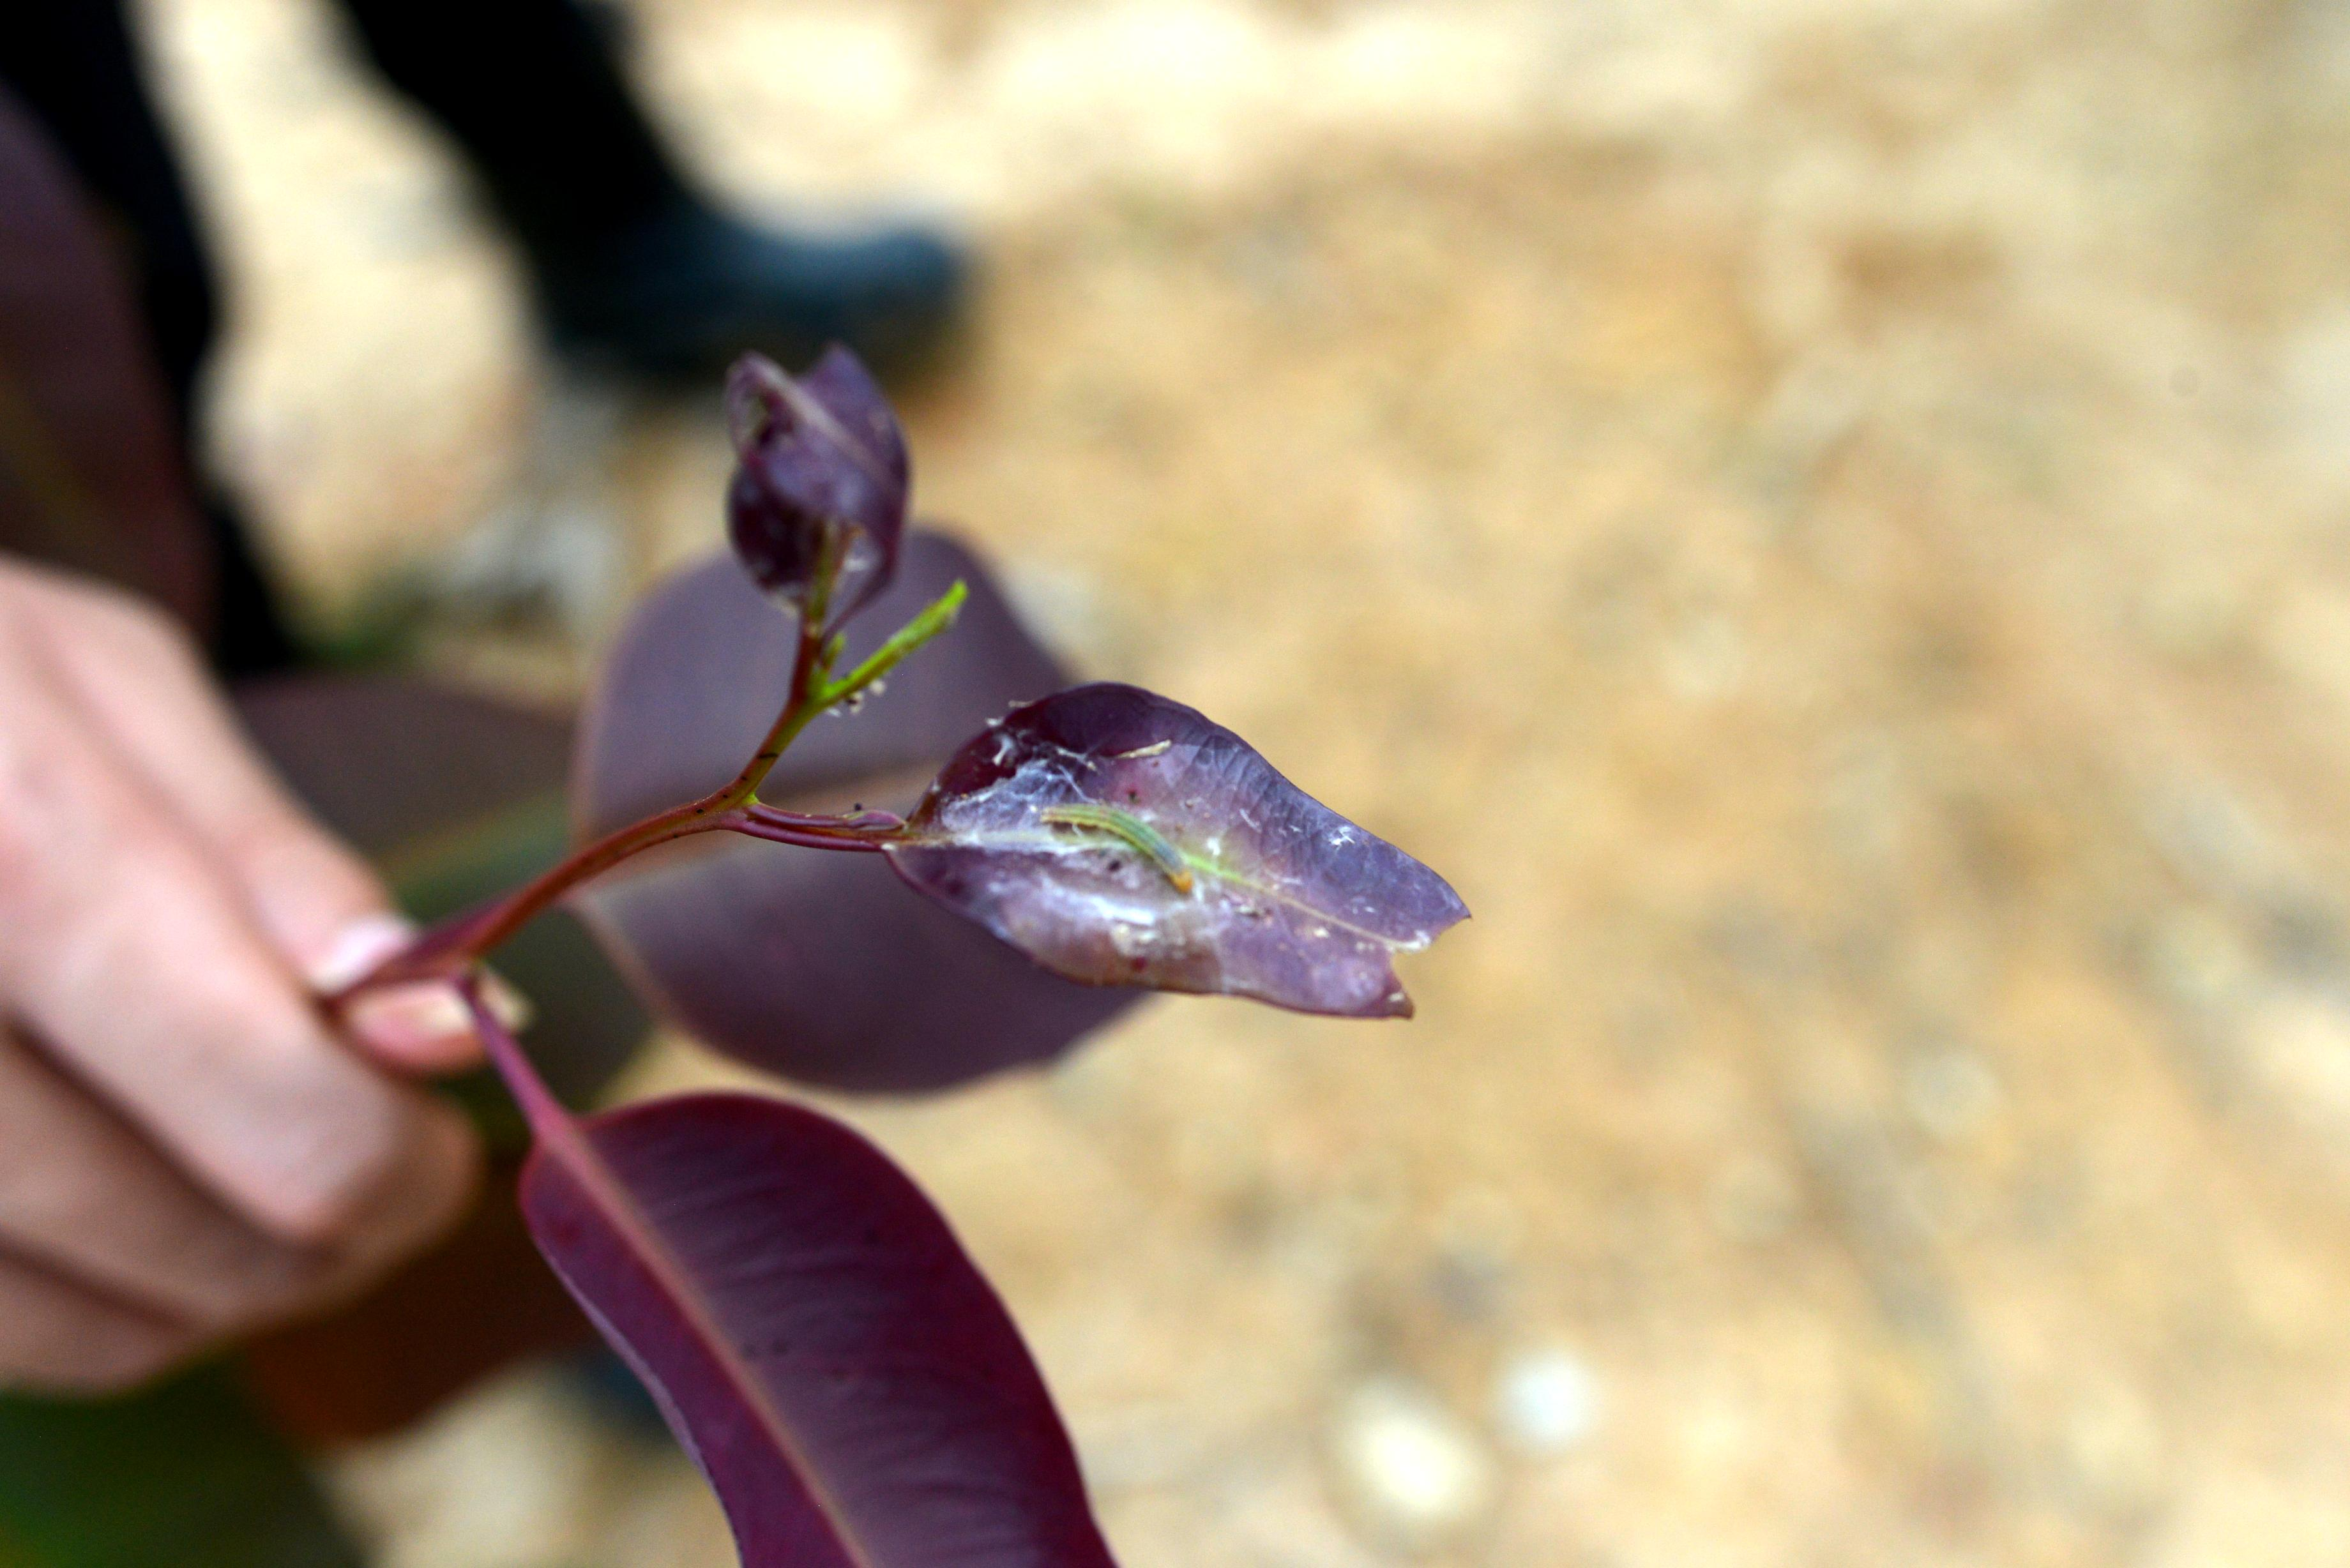Leaf Roller - Insect: (1029, 792, 1207, 891)
Leaf Roller - Leaf: (865, 682, 1480, 1044), (722, 329, 921, 630)
